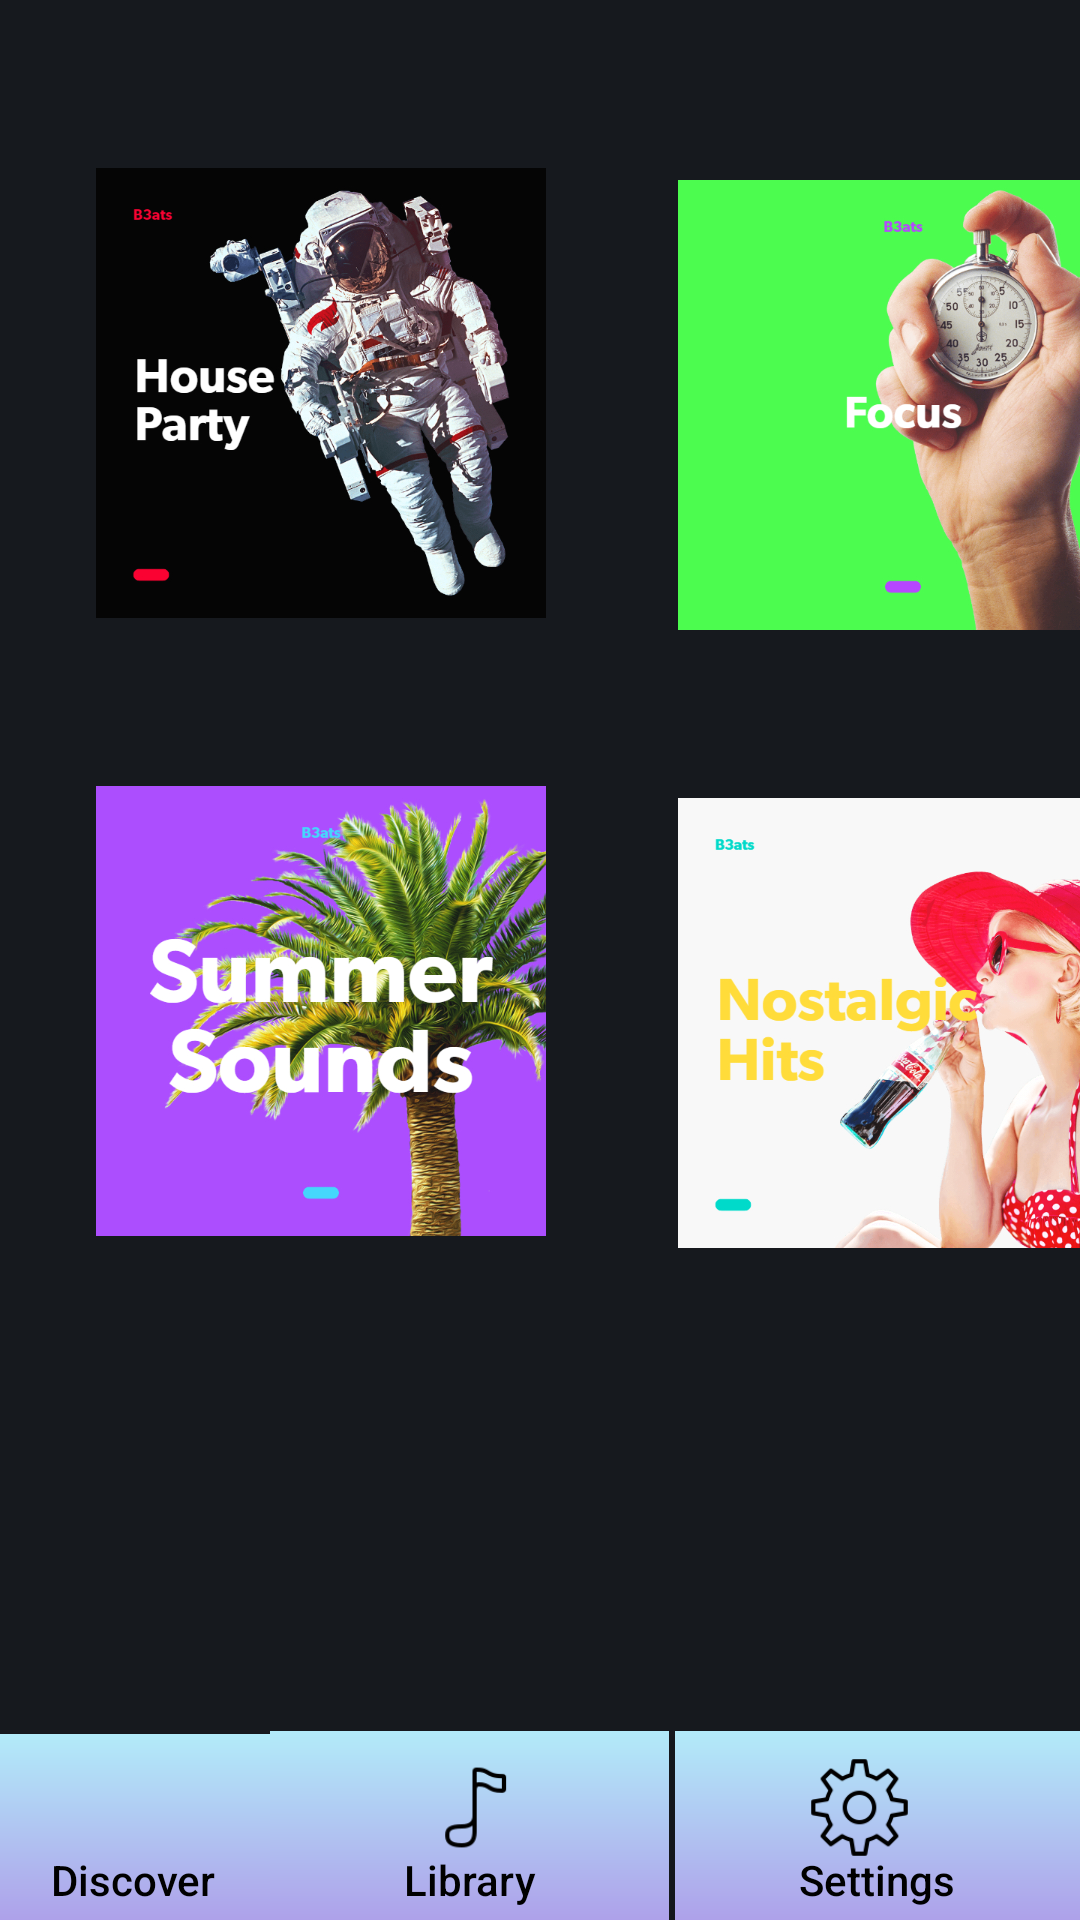

Icon click points for this 1080w x 1920h phone screenshot, format [x,y]:
music: [472,1807]
